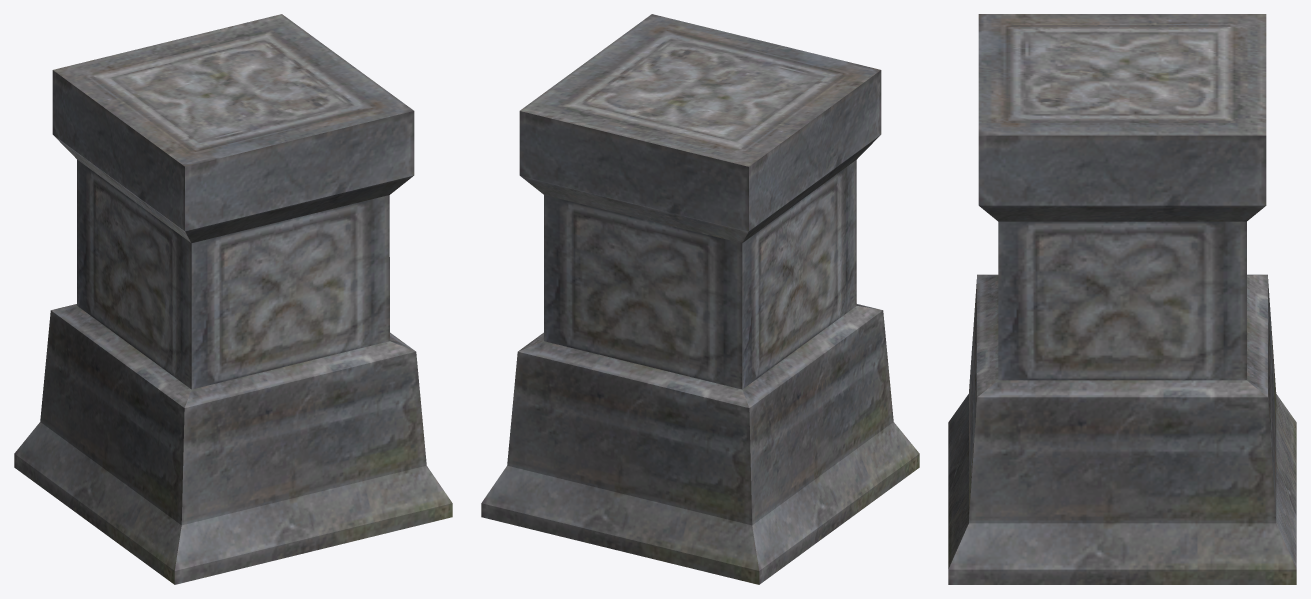
The model's file is bg_lut_lucastle_monument03_sm_artree.FBX.
The picture shows the model from 3 angles, left to right: view 1: azimuth 30°, elevation 25°; view 2: azimuth 150°, elevation 25°; view 3: azimuth 270°, elevation 25°; orthographic projection. The views are drawn at different scales.
Parts seen in each view (by area): view 1: bg_lut_lucastle_monument03_sm_artree; view 2: bg_lut_lucastle_monument03_sm_artree; view 3: bg_lut_lucastle_monument03_sm_artree.
Part boxes in pixels (<box>): bg_lut_lucastle_monument03_sm_artree: <box>14,14,452,584</box>; bg_lut_lucastle_monument03_sm_artree: <box>481,14,919,584</box>; bg_lut_lucastle_monument03_sm_artree: <box>948,14,1296,584</box>.
Bounding box in the file's own units: 54.6 × 75.47 × 54.59.
